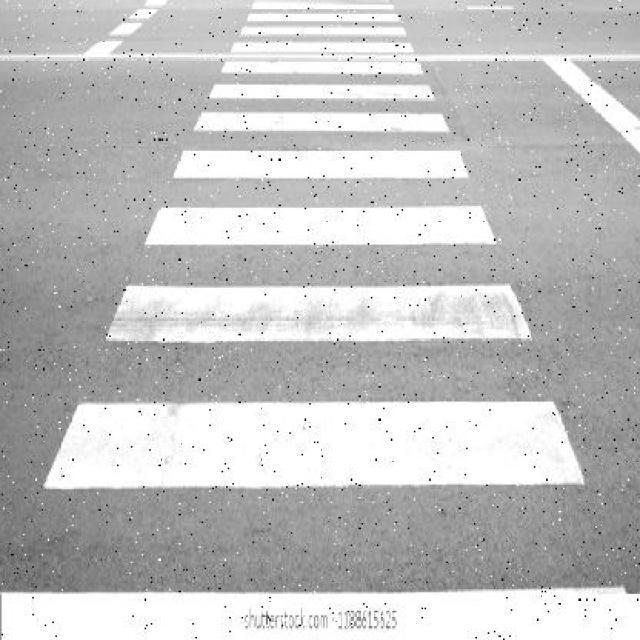crosswalk: (4, 1, 628, 593)
